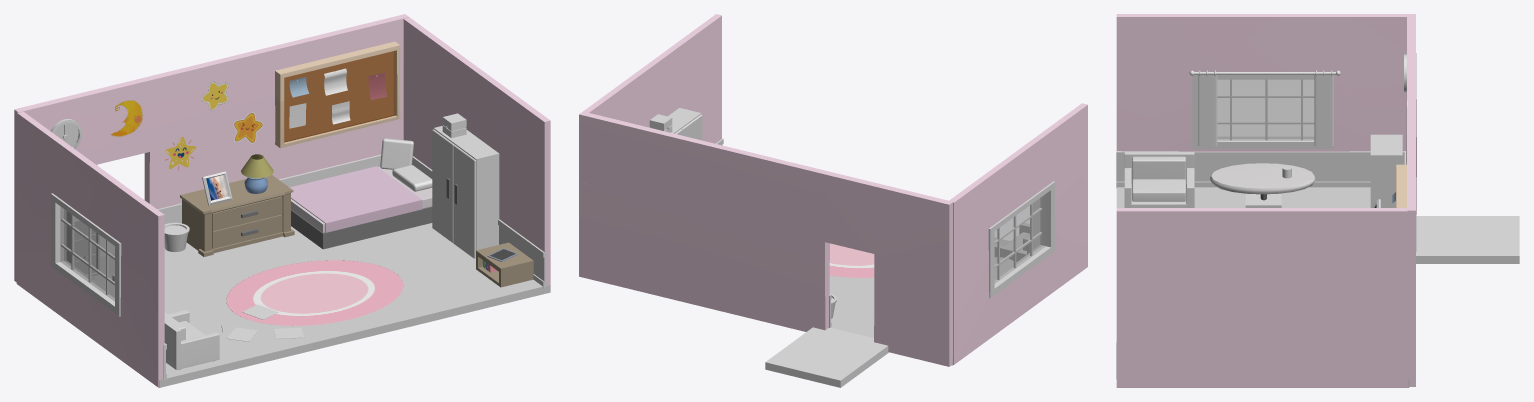
File: Texture Starting Room.fbx
3 renders of one model, left to right at view 1: azimuth 30°, elevation 25°; view 2: azimuth 150°, elevation 25°; view 3: azimuth 270°, elevation 25°, orthographic. The views are drawn at different scales.
Visible parts, largest first — view 1: Wall_back, Floor, Wall_Left, Wall_Right, pCylinder9, BulletBoard, Cuboard, pCube23, Glass, pCube19, polySurface2, pCube33 (+19 smaller); view 2: Wall_back, Wall_Left, Wall_Right, Floor_Door, Glass, polySurface2, Floor, pCylinder9, pCube19, pCube38; view 3: Wall_Right, Wall_Left, Glass, Floor_Door, pCube44, Wall_back, Floor, pCylinder4, polySurface2, pCube48, pCube38, pPlane1 (+7 smaller).
Boxes of the visible parts, left/top/right/bottom form: Wall_back: left=14, top=14, right=409, bottom=281; Floor: left=91, top=223, right=550, bottom=387; Wall_Left: left=16, top=111, right=164, bottom=387; Wall_Right: left=403, top=17, right=550, bottom=285; pCylinder9: left=226, top=260, right=403, bottom=325; BulletBoard: left=275, top=41, right=400, bottom=148; Cuboard: left=180, top=175, right=294, bottom=256; pCube23: left=289, top=166, right=422, bottom=232; Glass: left=60, top=207, right=114, bottom=301; pCube19: left=433, top=126, right=499, bottom=250; polySurface2: left=51, top=193, right=121, bottom=316; pCube33: left=291, top=206, right=432, bottom=249; Wall_back: left=579, top=111, right=952, bottom=366; Wall_Left: left=949, top=103, right=1087, bottom=364; Wall_Right: left=583, top=14, right=721, bottom=143; Floor_Door: left=765, top=327, right=888, bottom=387; Glass: left=994, top=194, right=1045, bottom=282; polySurface2: left=988, top=181, right=1055, bottom=298; Floor: left=829, top=237, right=1009, bottom=365; pCylinder9: left=829, top=243, right=874, bottom=277; pCube19: left=668, top=108, right=701, bottom=133; pCube38: left=994, top=223, right=1029, bottom=261; Wall_Right: left=1116, top=208, right=1408, bottom=387; Wall_Left: left=1116, top=14, right=1406, bottom=151; Glass: left=1217, top=79, right=1314, bottom=140; Floor_Door: left=1416, top=216, right=1519, bottom=263; pCube44: left=1116, top=151, right=1405, bottom=188; Wall_back: left=1406, top=14, right=1416, bottom=386; Floor: left=1116, top=187, right=1409, bottom=387; pCylinder4: left=1210, top=163, right=1315, bottom=194; polySurface2: left=1192, top=74, right=1333, bottom=148; pCube48: left=1370, top=134, right=1402, bottom=207; pCube38: left=1124, top=152, right=1194, bottom=207; pPlane1: left=1198, top=74, right=1217, bottom=146.
Size of the model in its own units: 12 by 5 by 10.31.
29 materials, 11 textured.
